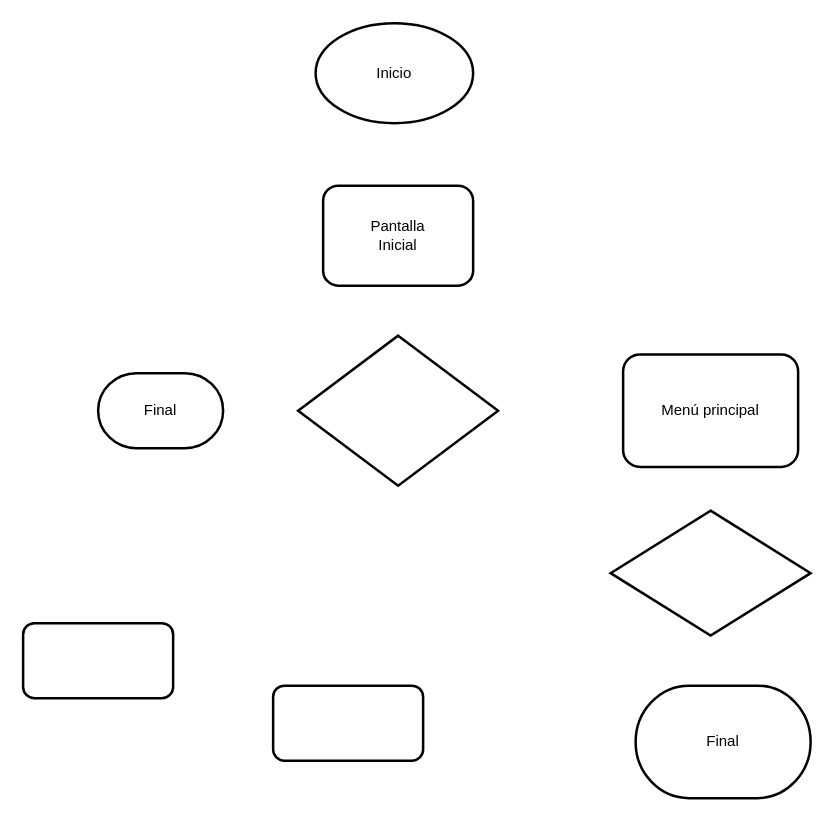
Image size: 833x820. Some labels were removed from this diagram. Each missing label, with the centre of its shape:
"¿Comenzar partida ?" belongs at pixel 397 410.
"¿Qué desea hacer?" belongs at pixel 710 572.
